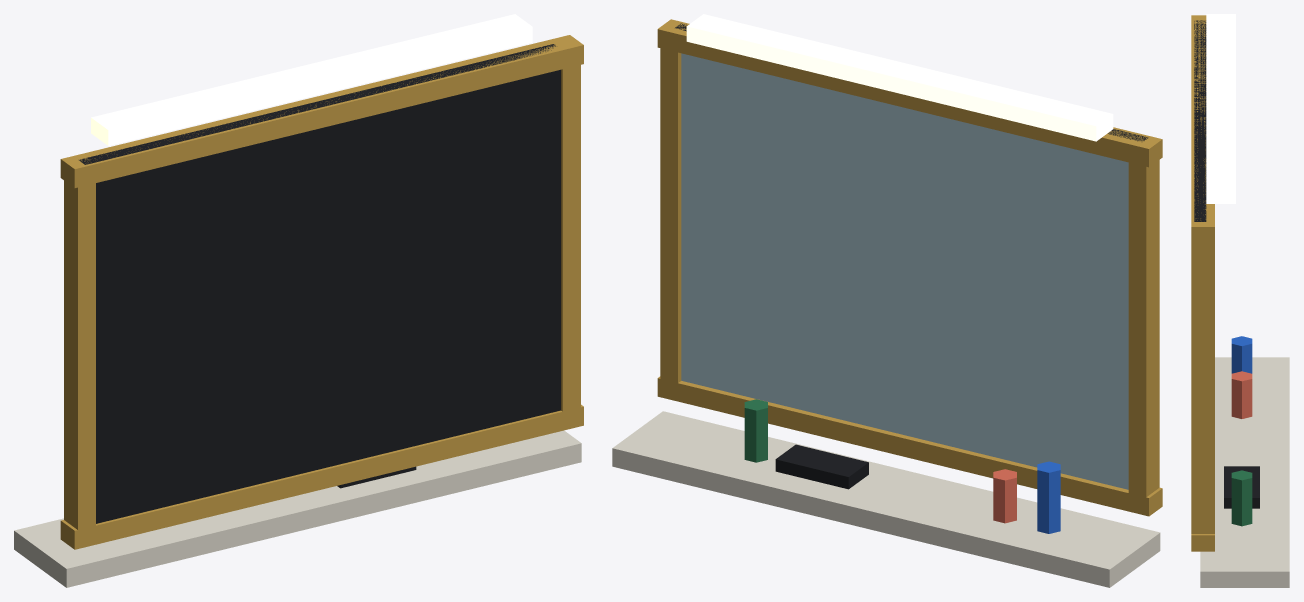
File: mirror_wall.glb
3 renders of one model, left to right at view 1: azimuth 30°, elevation 25°; view 2: azimuth 150°, elevation 25°; view 3: azimuth 270°, elevation 25°, orthographic. The views are drawn at different scales.
Visible parts, largest first — view 1: Body; view 2: Body; view 3: Body.
Part boxes in pixels (box(x1,y1,x2,y2)): Body: box(14, 14, 583, 587); Body: box(612, 14, 1162, 587); Body: box(1191, 14, 1289, 587).
Bounding box in the file's own units: 1.7 × 1.4 × 0.33.
